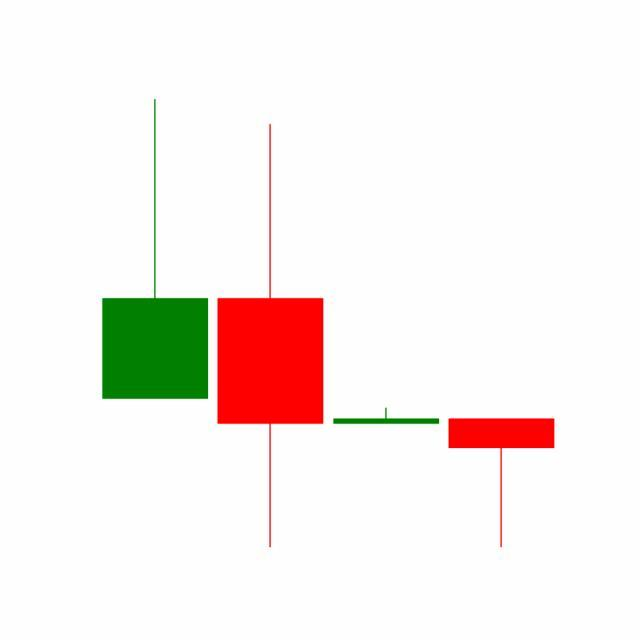Hanging Man: (444, 417, 560, 549)
